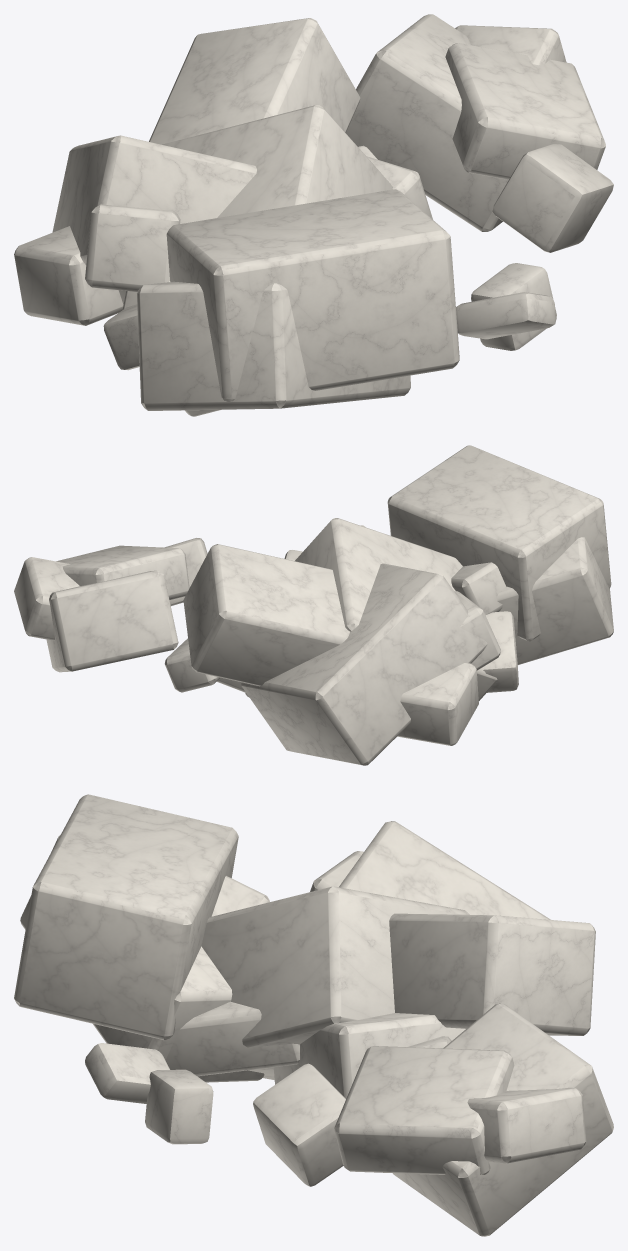
The model's file is HolyWall_Rubble.fbx.
The picture shows the model from 3 angles, top to bottom: view 1: azimuth 30°, elevation 25°; view 2: azimuth 150°, elevation 25°; view 3: azimuth 270°, elevation 25°; orthographic projection. The views are drawn at different scales.
Visible parts, largest first — view 1: HolyWall_Rubble; view 2: HolyWall_Rubble; view 3: HolyWall_Rubble.
Part boxes in pixels (x1,y1,x2,y2): HolyWall_Rubble: [14, 14, 613, 416]; HolyWall_Rubble: [14, 445, 613, 765]; HolyWall_Rubble: [14, 794, 613, 1236].
Size of the model in its own units: 5.2 by 2.25 by 4.57.
